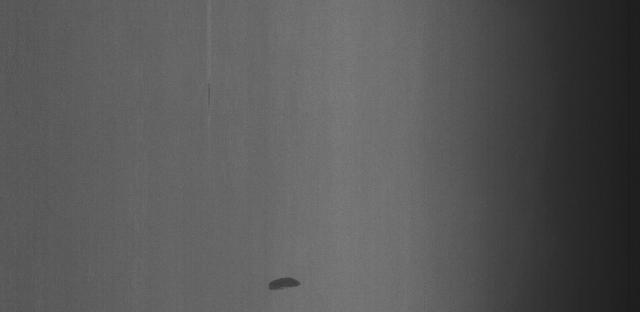oil_spot: (262, 260, 307, 299)
